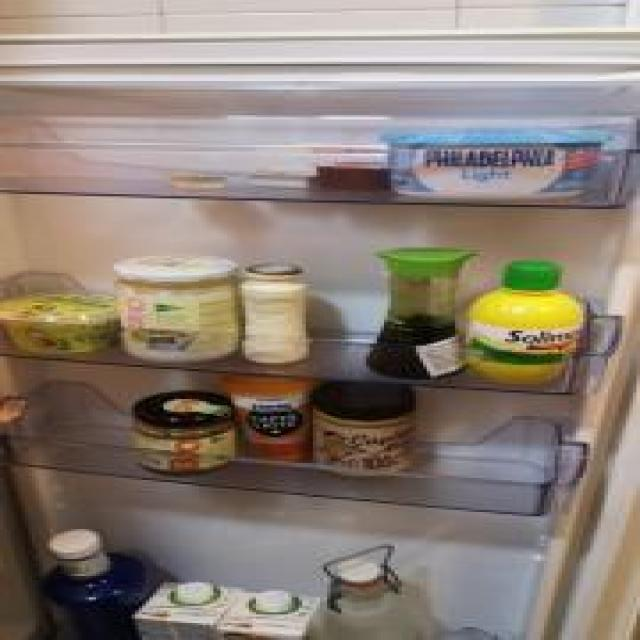guacamole: (0, 281, 124, 358)
